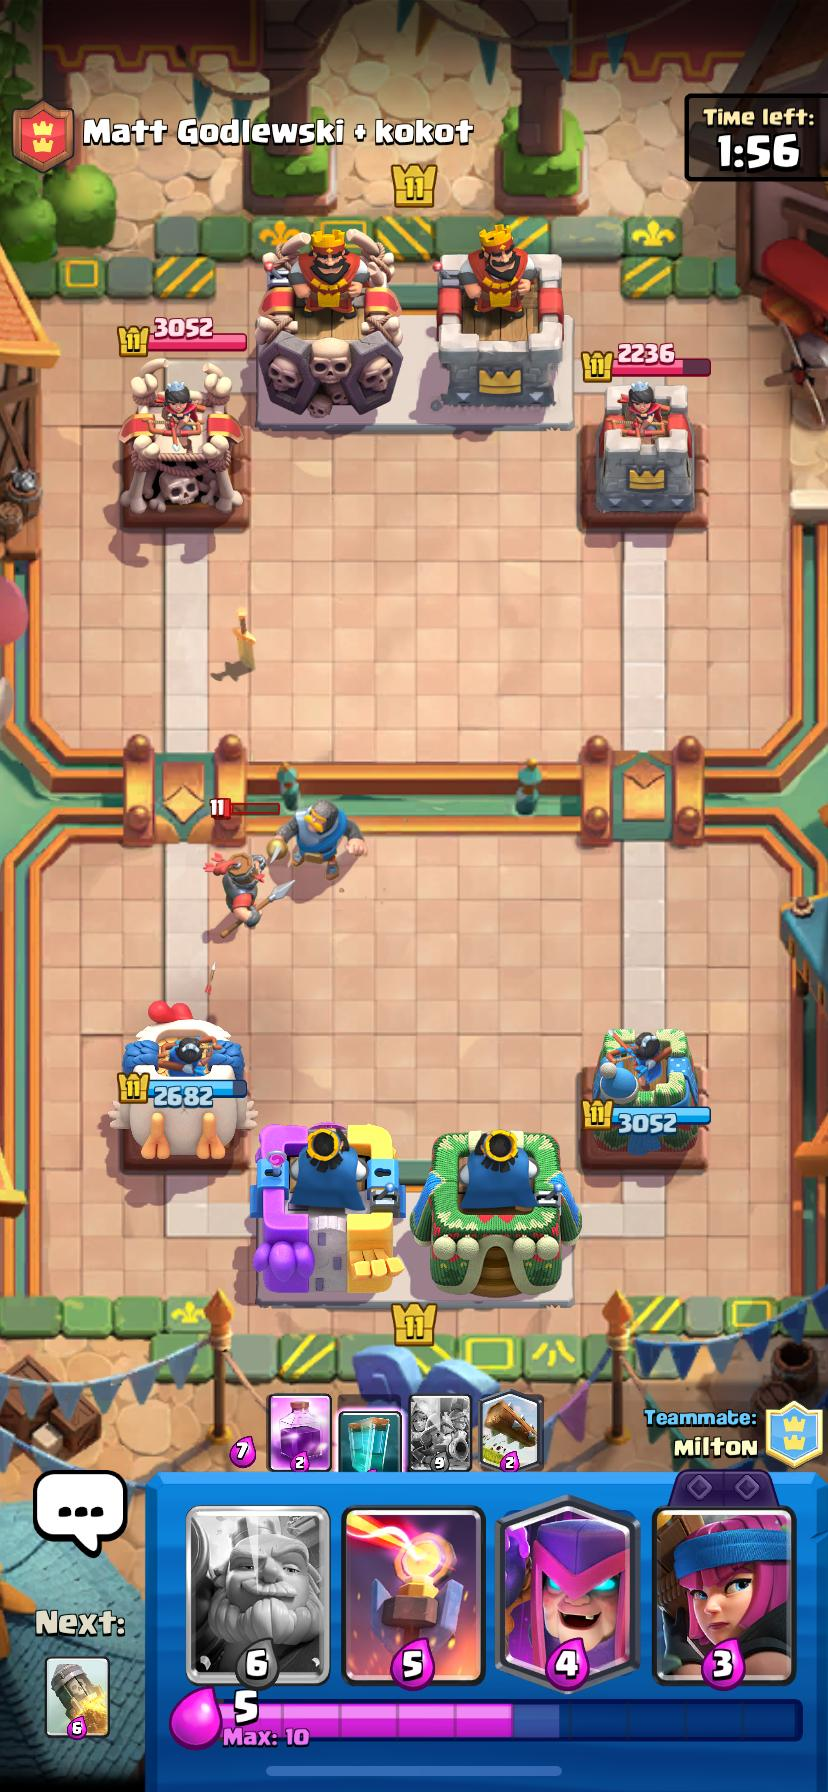EKingTower: (256, 230, 403, 422), (436, 245, 570, 410)
ERoyalR: (205, 853, 271, 937)
EnemyPrincessTower: (120, 360, 242, 521), (583, 379, 694, 523)
OKnight: (266, 798, 365, 882)
OwnKingTower: (411, 1128, 581, 1296), (252, 1123, 403, 1298)
OwnPrincessTower: (109, 1003, 255, 1160), (580, 1029, 709, 1169)
